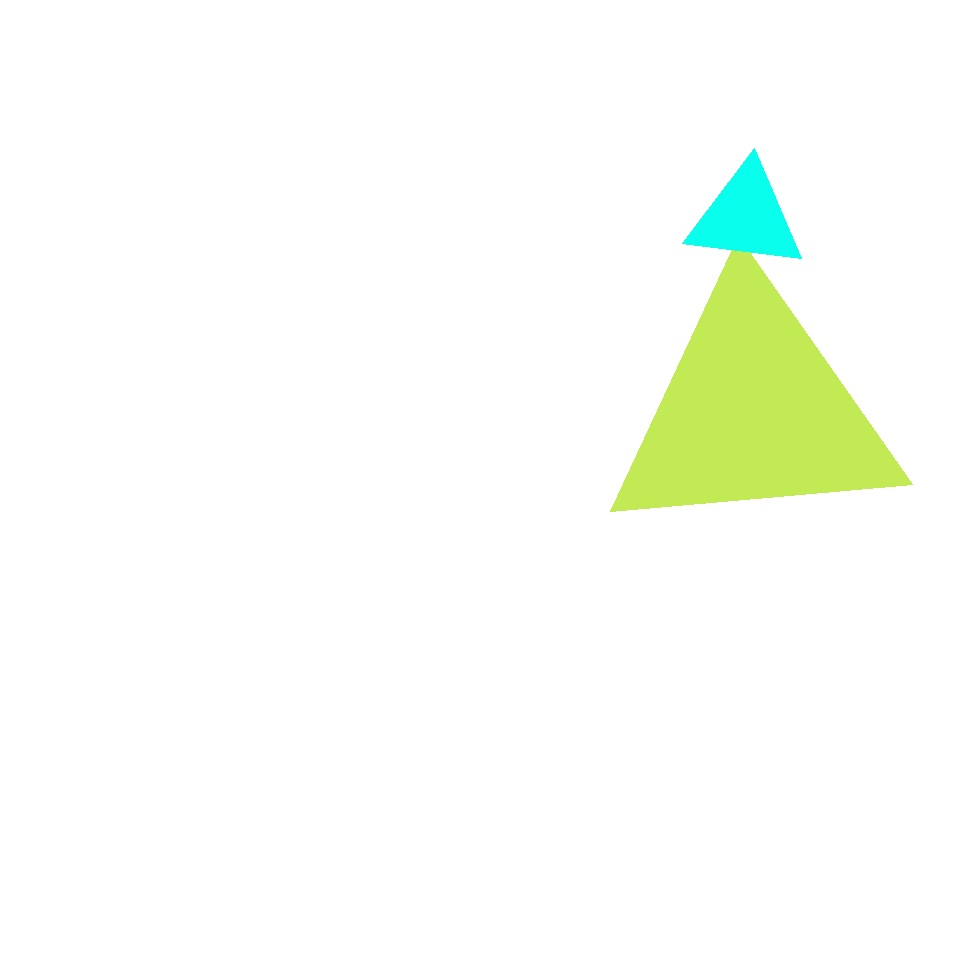circle: (603, 274, 905, 548), (686, 162, 806, 272)
triangle: (16, 177, 296, 456), (497, 494, 680, 676)
